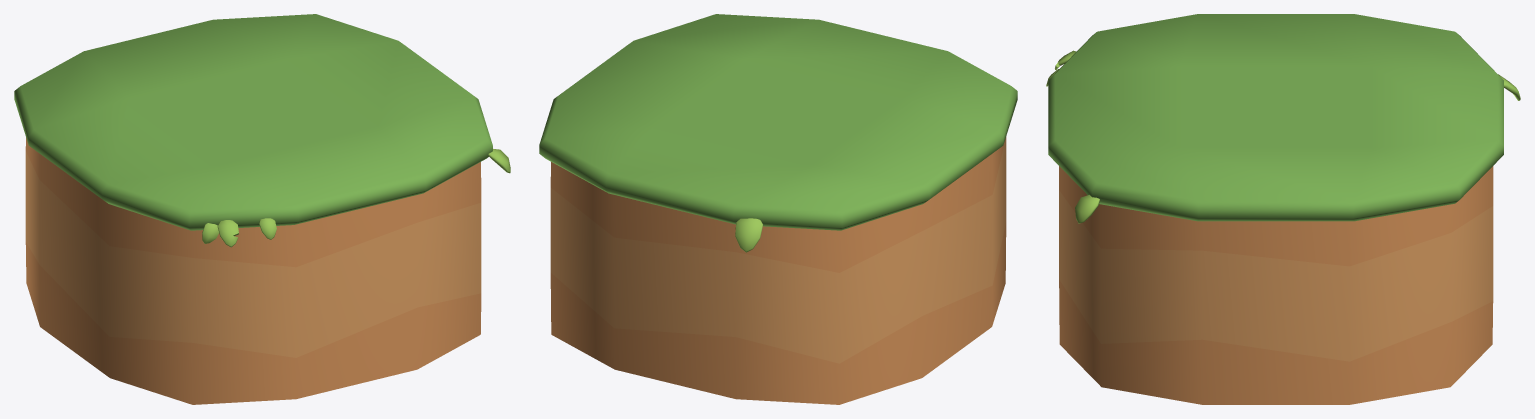
Rendered from ground 02_toon_material_0.001.glb.
3 renders of one model, left to right at view 1: azimuth 30°, elevation 25°; view 2: azimuth 150°, elevation 25°; view 3: azimuth 270°, elevation 25°, orthographic. The views are drawn at different scales.
Parts seen in each view (by area): view 1: ground 02_toon_material_0.001; view 2: ground 02_toon_material_0.001; view 3: ground 02_toon_material_0.001.
Part boxes in pixels (x1,y1,x2,y2): ground 02_toon_material_0.001: (14, 14, 510, 404); ground 02_toon_material_0.001: (539, 14, 1017, 404); ground 02_toon_material_0.001: (1046, 14, 1520, 404).
Size of the model in its own units: 4.2 by 2.1 by 4.37.
1 material, 1 textured.
